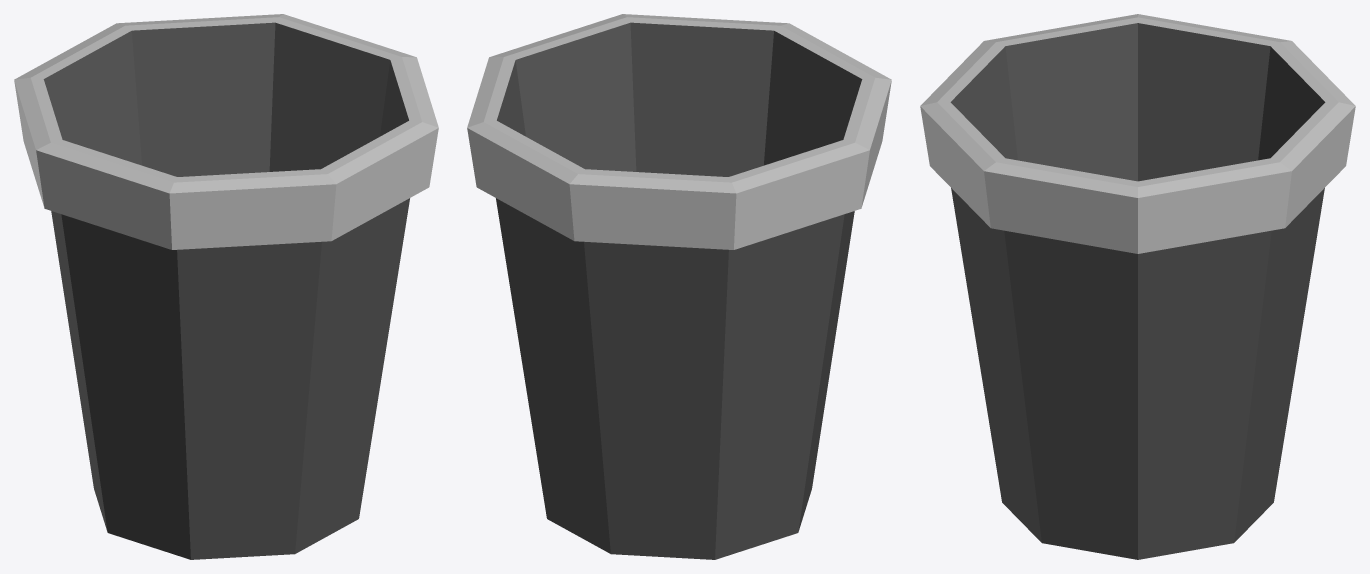
Rendered from Glass.fbx.
3 views of the same model, side by side, from view 1: azimuth 30°, elevation 25°; view 2: azimuth 150°, elevation 25°; view 3: azimuth 270°, elevation 25° (orthographic).
Parts seen in each view (by area): view 1: Glass; view 2: Glass; view 3: Glass.
Part boxes in pixels (x1,y1,x2,y2): Glass: (14,14,438,559); Glass: (467,14,891,559); Glass: (920,14,1355,559).
Bounding box in the file's own units: 12.82 × 13 × 12.82.
